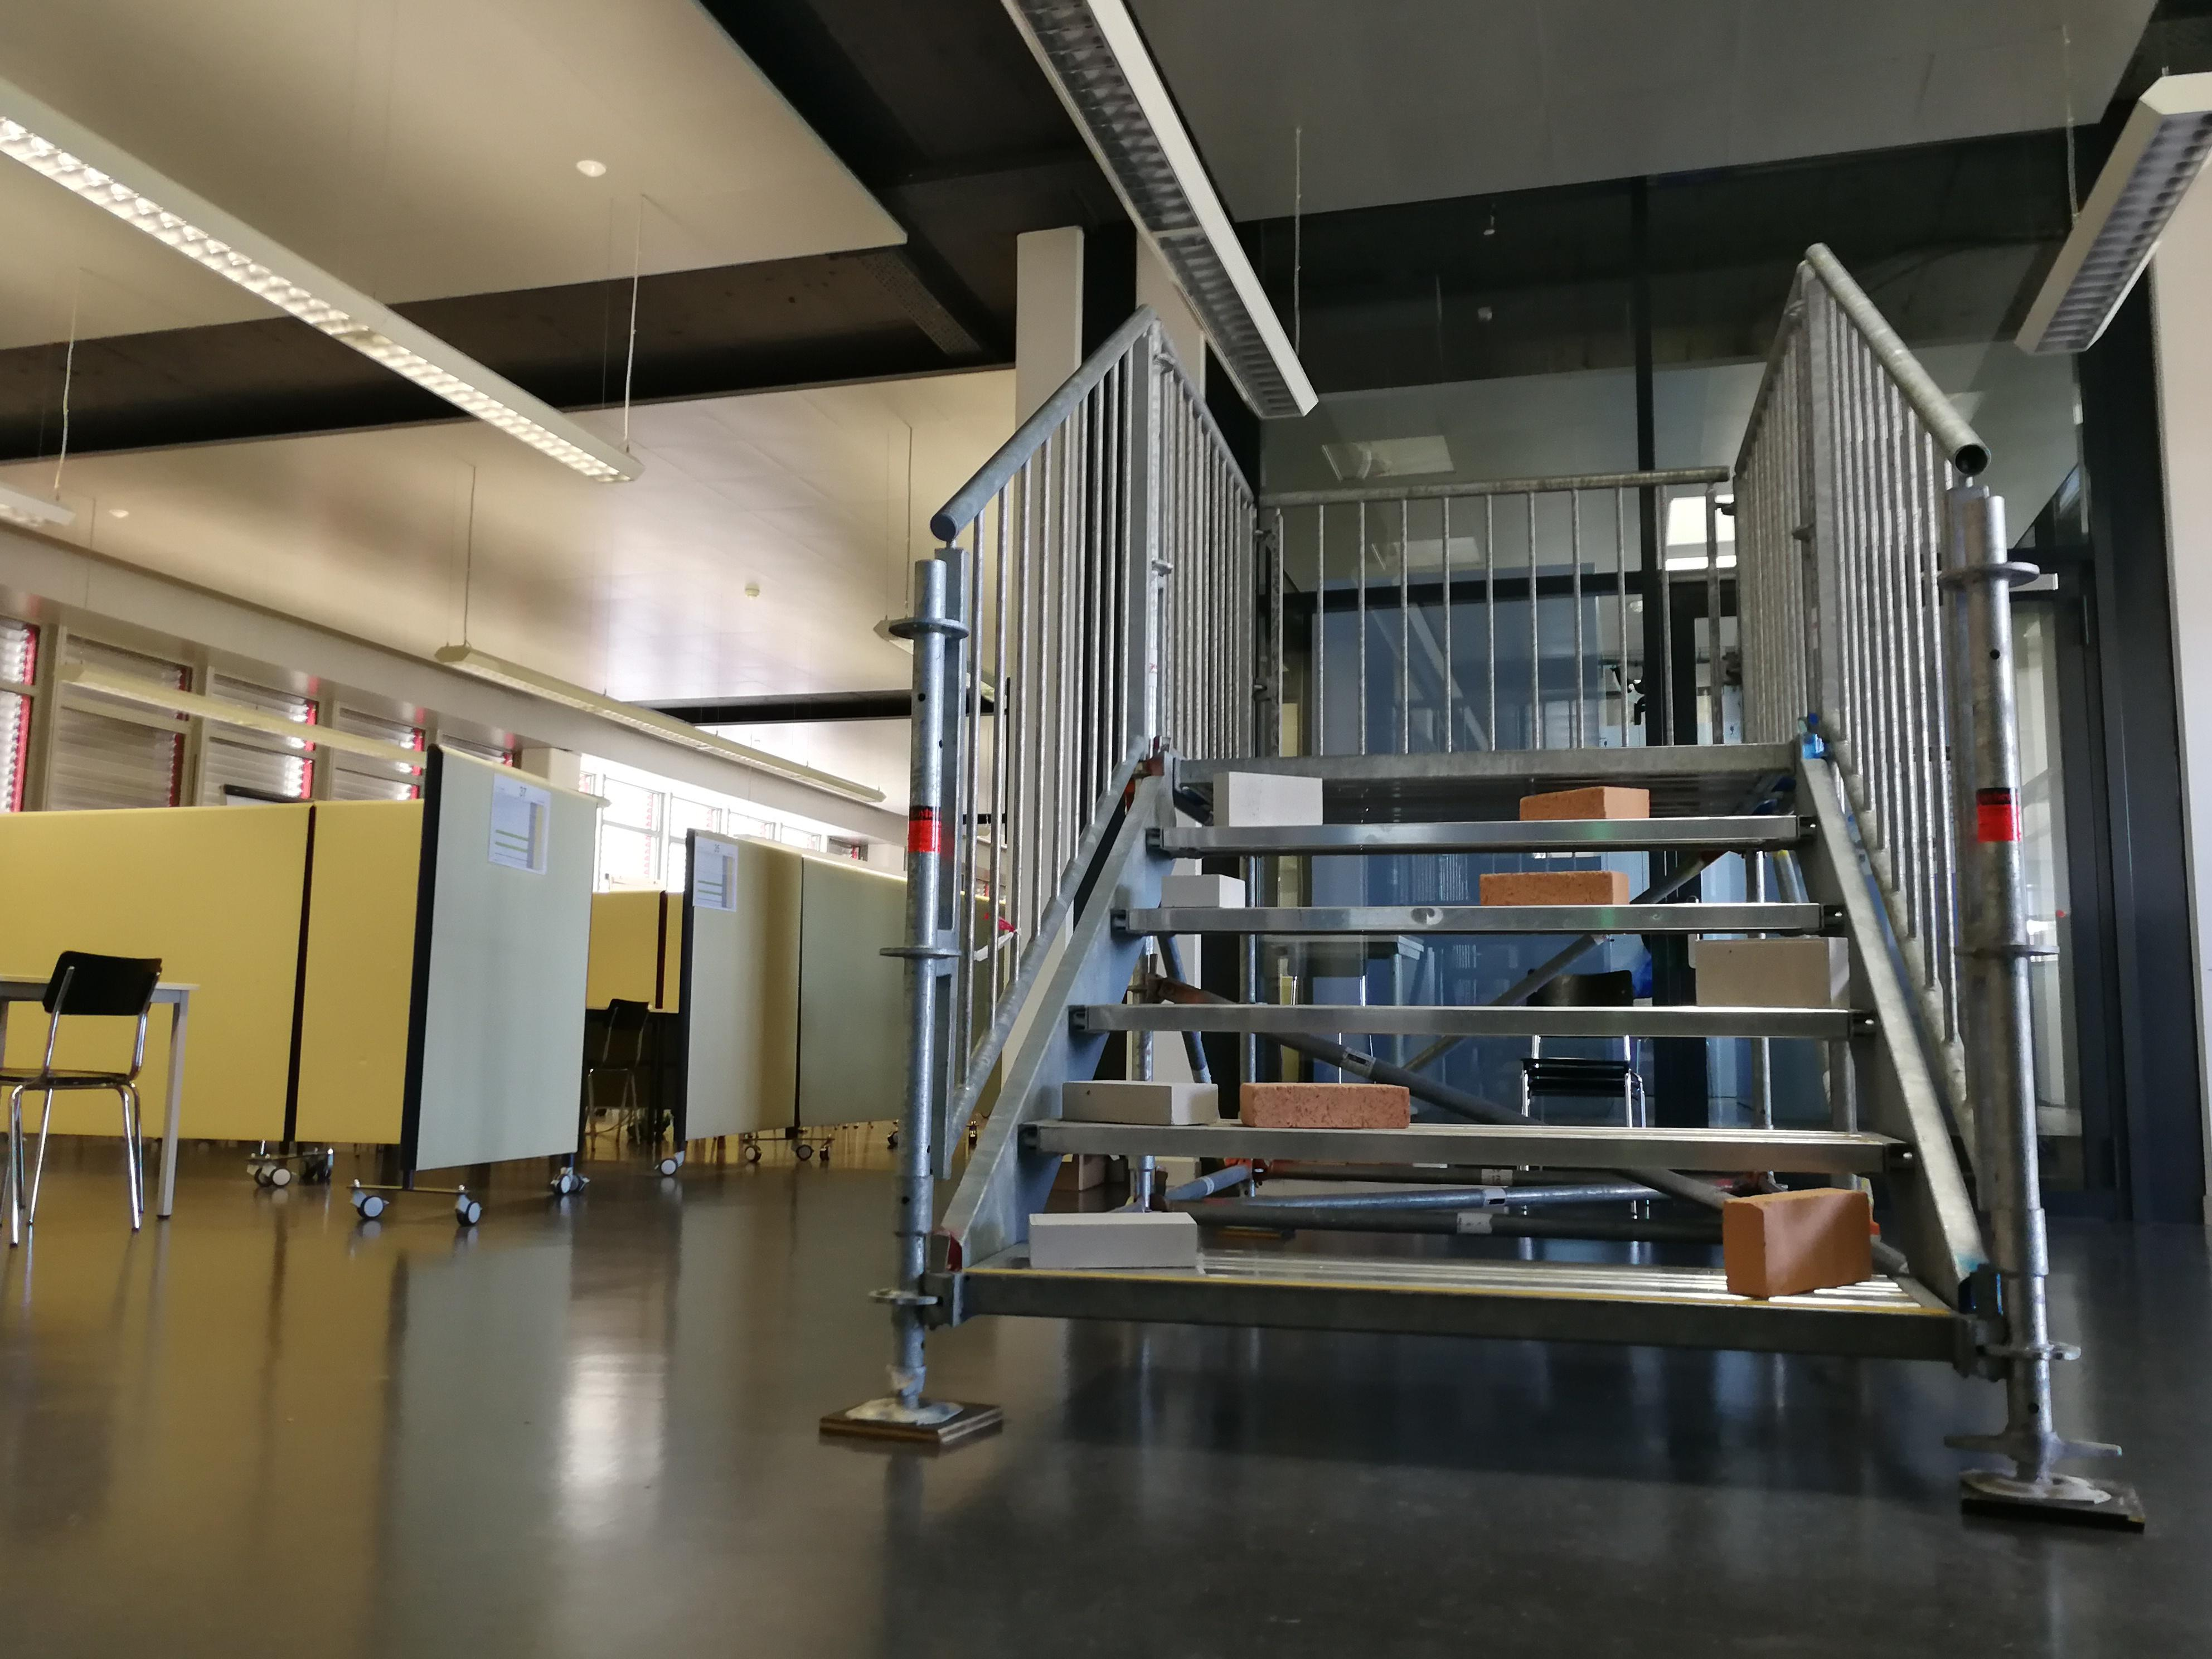brick: (1723, 1190, 1867, 1293), (1693, 938, 1851, 1009), (1026, 1211, 1195, 1265), (1238, 1082, 1406, 1127), (1066, 1080, 1219, 1124), (1209, 772, 1320, 828), (1477, 870, 1632, 908), (1519, 784, 1646, 819), (1165, 875, 1242, 904)
edge: (967, 1270, 1956, 1364), (1017, 1122, 1914, 1180), (1071, 1004, 1876, 1042), (1111, 901, 1844, 932), (1146, 817, 1824, 847), (1177, 742, 1799, 774)
stairs: (824, 242, 2149, 1539)
steps: (953, 730, 1980, 1391)
